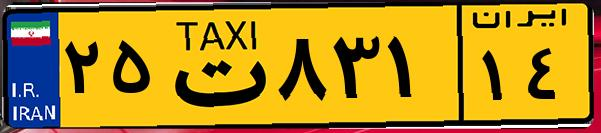1: (385, 28, 445, 110), (475, 38, 525, 113)
2: (57, 26, 110, 100)
3: (330, 28, 385, 110)
4: (525, 38, 570, 115)
5: (110, 28, 158, 98)
8: (270, 28, 330, 110)
ت: (158, 12, 270, 120)
